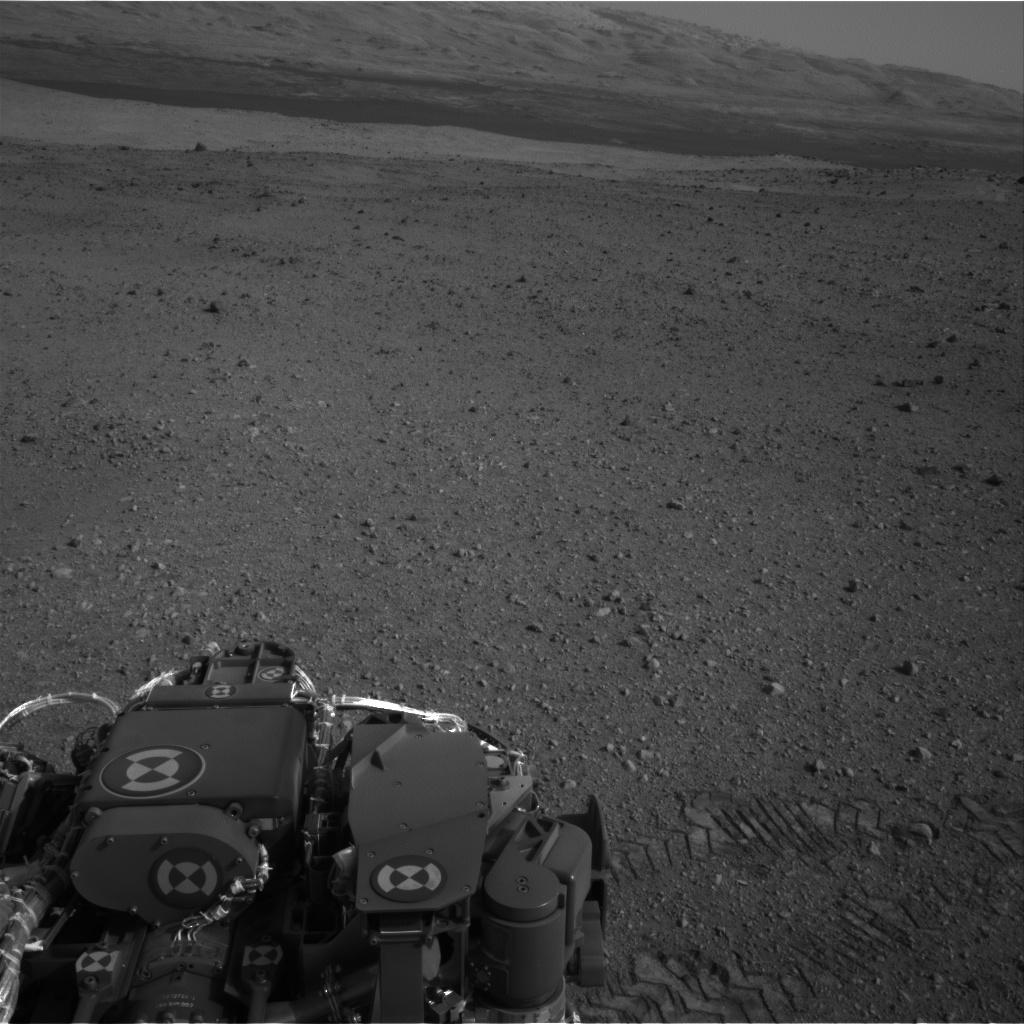soil: (11, 187, 1018, 1011)
